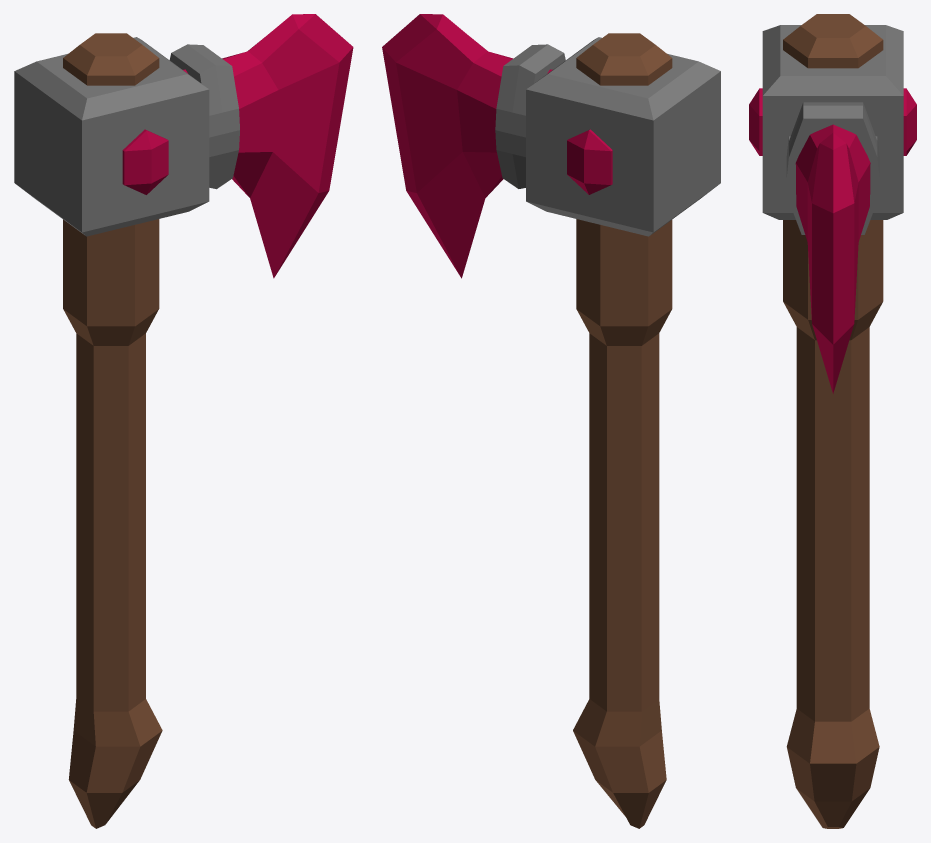
The model's file is EtheriumAxe.fbx.
3 renders of one model, left to right at view 1: azimuth 30°, elevation 25°; view 2: azimuth 150°, elevation 25°; view 3: azimuth 270°, elevation 25°, orthographic. The views are drawn at different scales.
Visible parts, largest first — view 1: Etherium Pickaxe.001; view 2: Etherium Pickaxe.001; view 3: Etherium Pickaxe.001.
Part boxes in pixels (bbox=[...]): Etherium Pickaxe.001: bbox=[14, 14, 353, 828]; Etherium Pickaxe.001: bbox=[382, 14, 720, 828]; Etherium Pickaxe.001: bbox=[749, 14, 916, 828].
Bounding box in the file's own units: 177 × 432 × 80.94.
